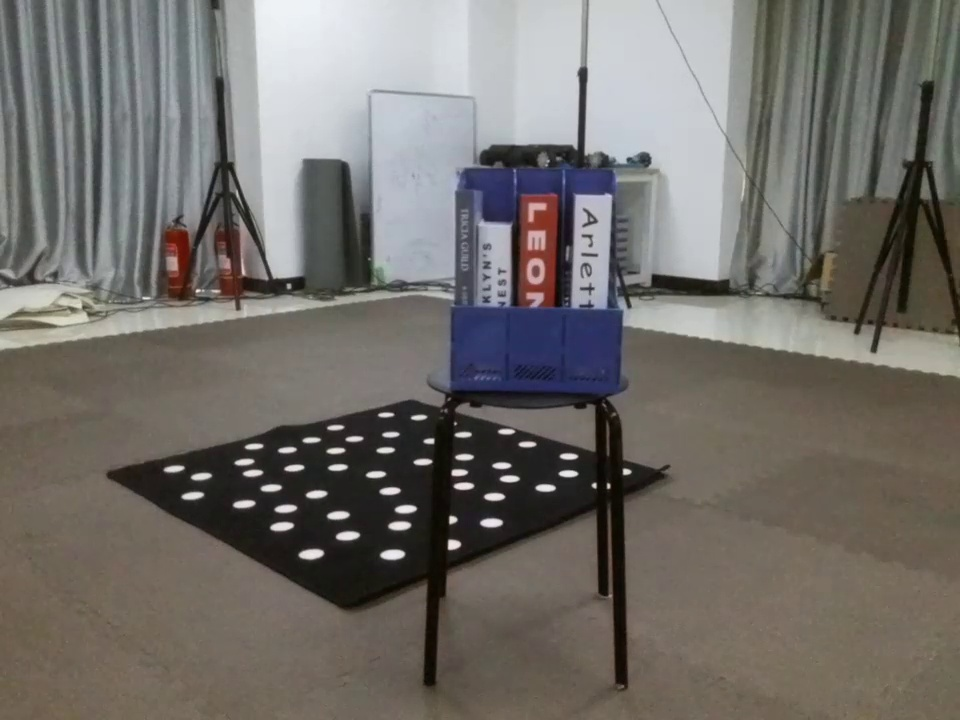files: (435, 132, 634, 405)
